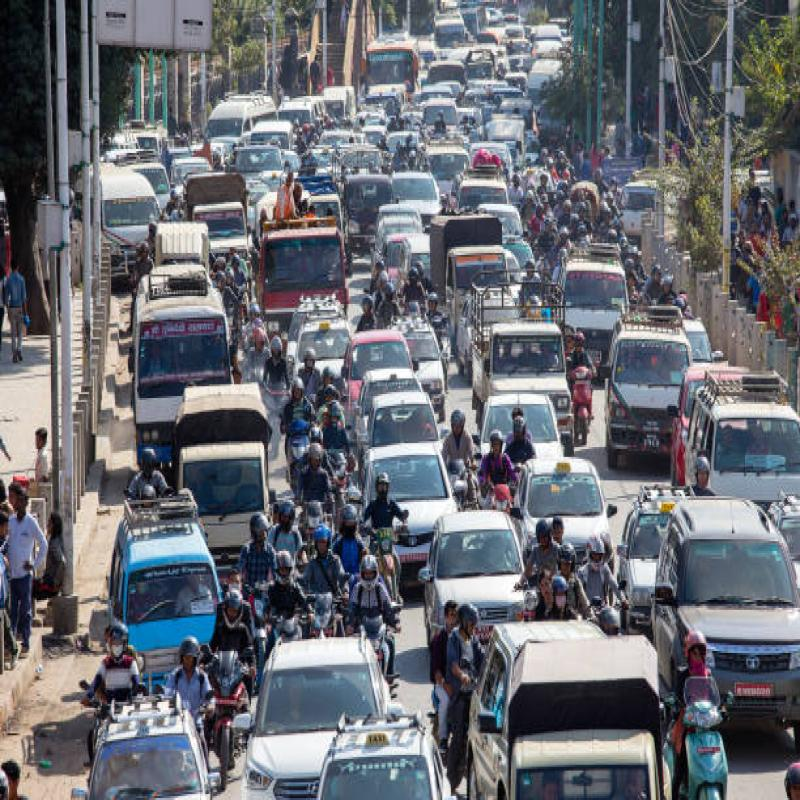car: (113, 483, 242, 687), (676, 494, 800, 696), (590, 320, 701, 468), (259, 640, 381, 770), (424, 504, 529, 646), (486, 322, 612, 438), (358, 455, 464, 576), (551, 255, 643, 375), (346, 330, 426, 416), (369, 393, 437, 449)
